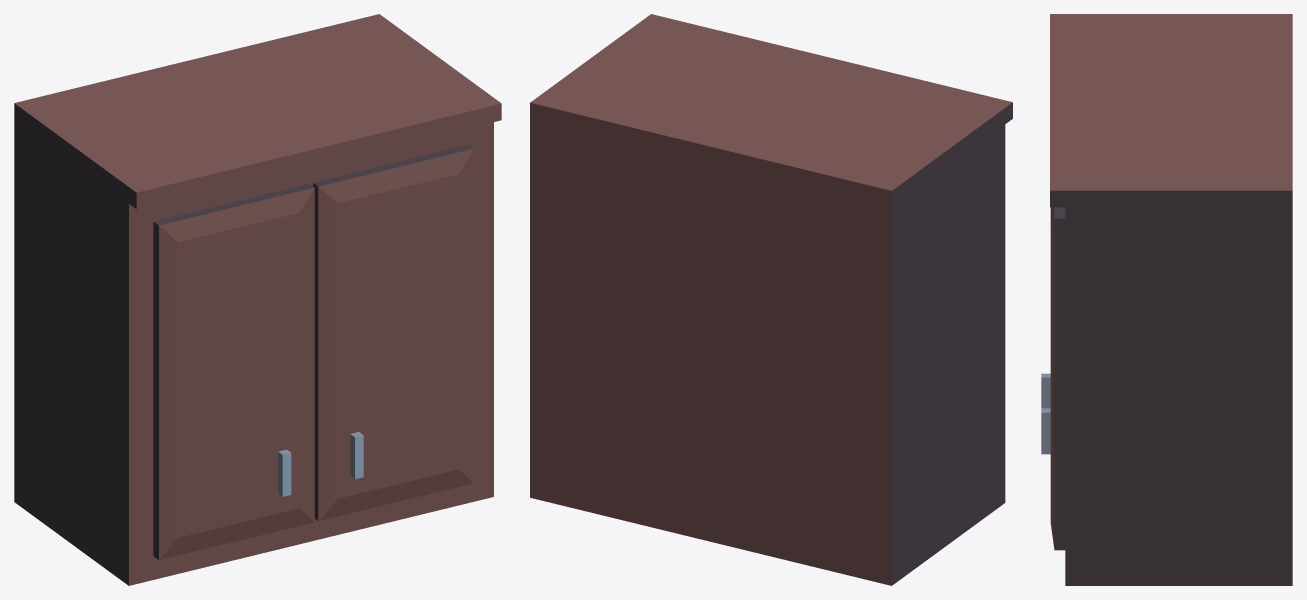
File: Kitchen Cabinet Top.fbx
3 views of the same model, side by side, from view 1: azimuth 30°, elevation 25°; view 2: azimuth 150°, elevation 25°; view 3: azimuth 270°, elevation 25° (orthographic).
Visible parts, largest first — view 1: Kitchen Cabinet Top; view 2: Kitchen Cabinet Top; view 3: Kitchen Cabinet Top.
Part boxes in pixels (bbox=[...]): Kitchen Cabinet Top: bbox=[14, 14, 501, 585]; Kitchen Cabinet Top: bbox=[530, 14, 1012, 585]; Kitchen Cabinet Top: bbox=[1041, 14, 1292, 585].
Size of the model in its own units: 200 by 209 by 120.
